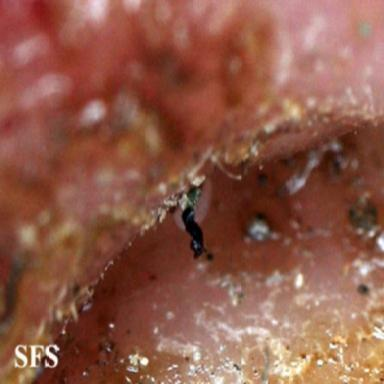Tungiasis: (179, 185, 205, 257), (245, 214, 271, 241)
